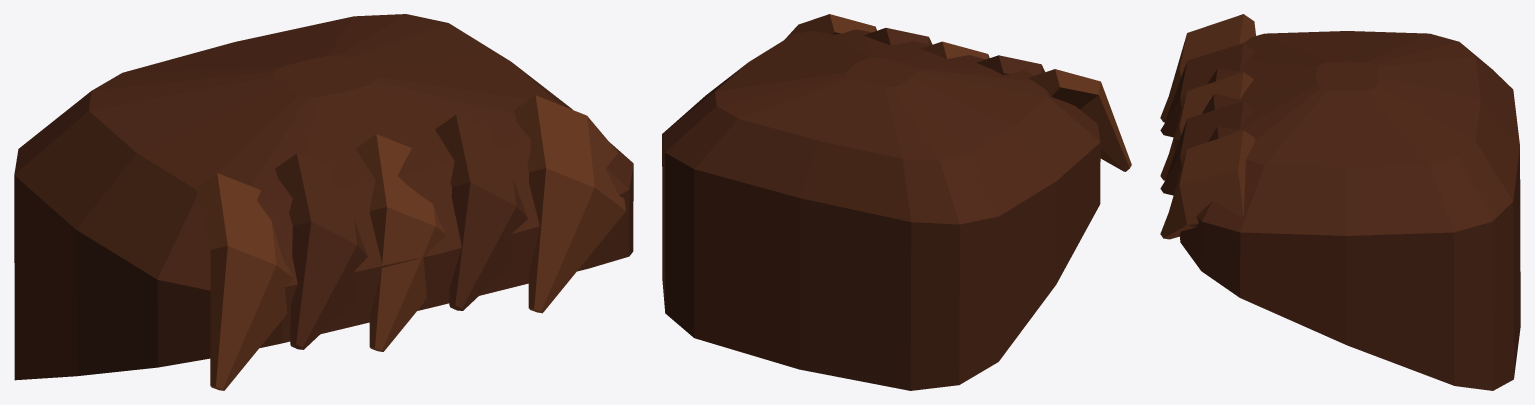
Rendered from SM_NPC_Hair_01_Crop.glb.
3 views of the same model, side by side, from view 1: azimuth 30°, elevation 25°; view 2: azimuth 150°, elevation 25°; view 3: azimuth 270°, elevation 25° (orthographic). The views are drawn at different scales.
Visible parts, largest first — view 1: SM_NPC_Hair_01_Crop; view 2: SM_NPC_Hair_01_Crop; view 3: SM_NPC_Hair_01_Crop.
Part boxes in pixels (x1,y1,x2,y2): SM_NPC_Hair_01_Crop: (14,14,633,390); SM_NPC_Hair_01_Crop: (662,14,1131,390); SM_NPC_Hair_01_Crop: (1160,14,1520,390).
Bounding box in the file's own units: 0.654 × 0.422 × 0.5506.
